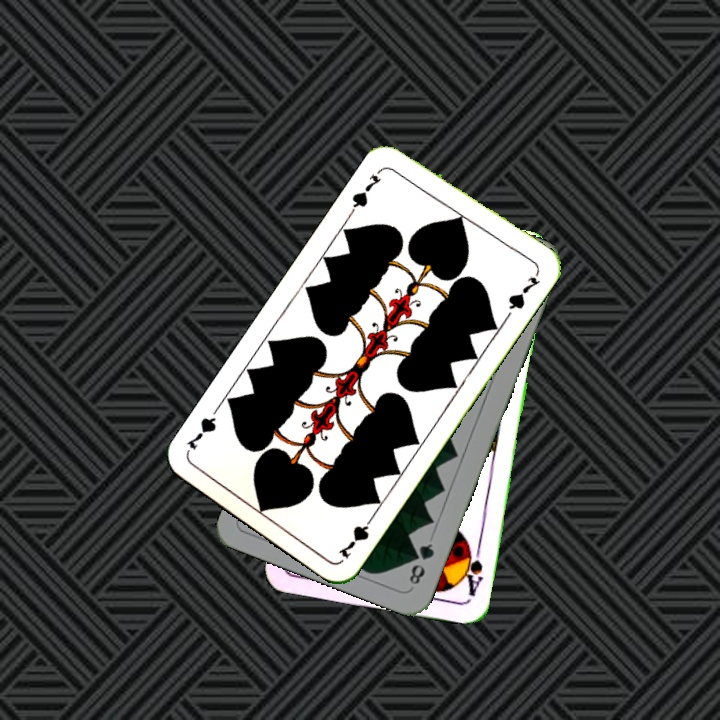G7: (334, 509, 378, 562), (347, 164, 387, 216)
G8: (405, 539, 437, 588)
SA: (457, 539, 486, 599)
